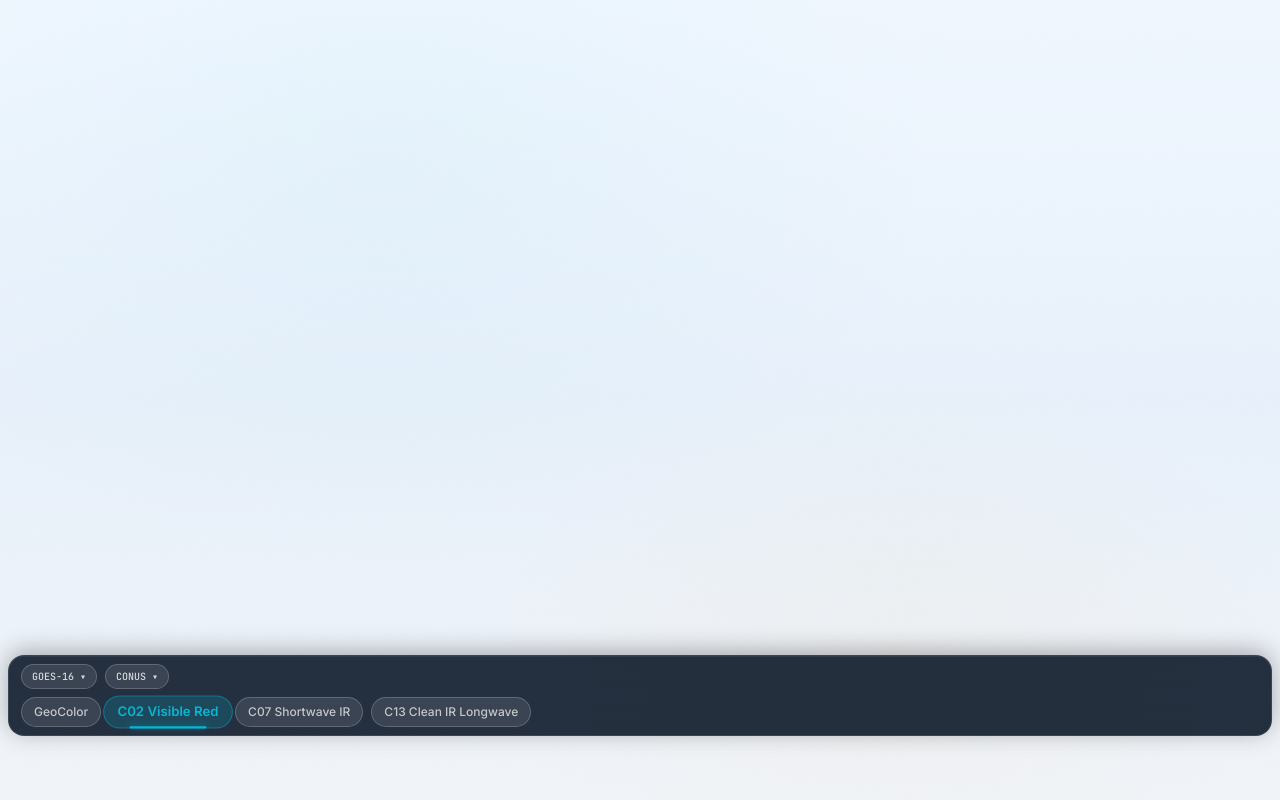
Test case: BandPillStrip › clicking satellite chip expands satellite options
What coordinates should you click on to do the following:
click the button with test id "pill-strip-satellite"
I would click on:
 (59, 676)
Its box is [21,664,97,689].
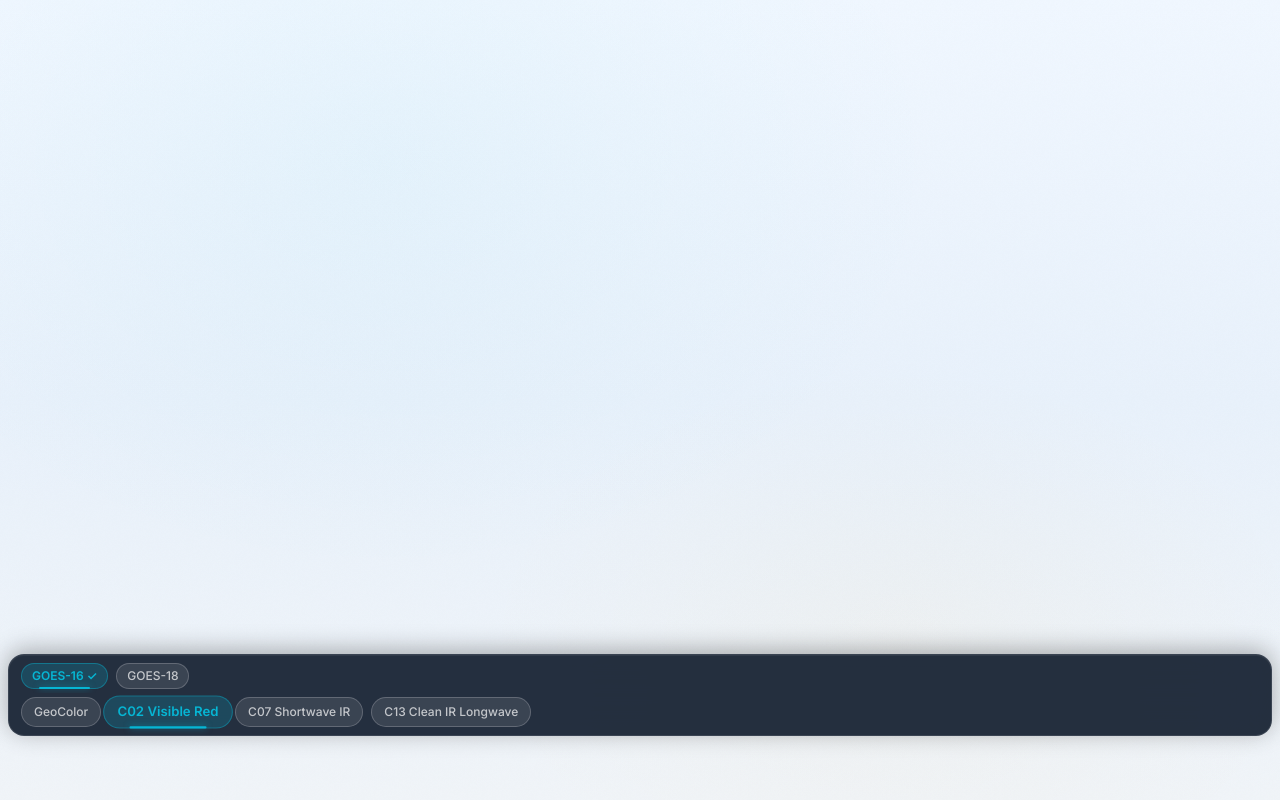
Expected: the button "GOES-18" is shown, [116,663,190,689]
